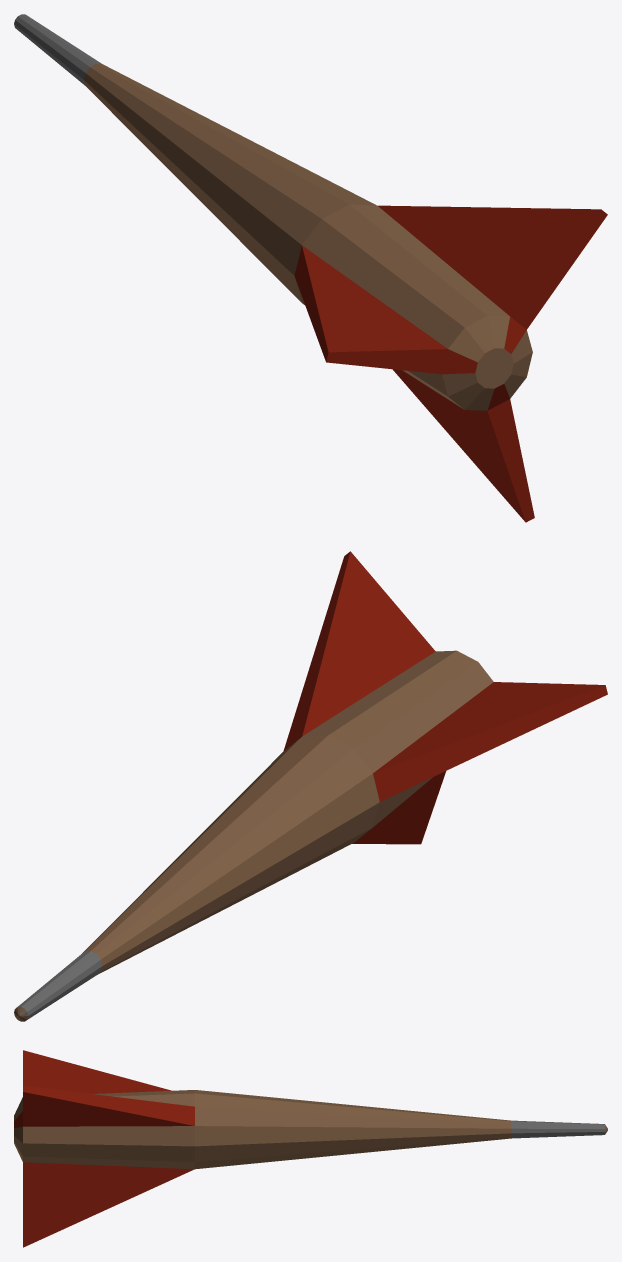
The model's file is dart.glb.
3 renders of one model, top to bottom at view 1: azimuth 30°, elevation 25°; view 2: azimuth 150°, elevation 25°; view 3: azimuth 270°, elevation 25°, orthographic. The views are drawn at different scales.
Parts seen in each view (by area): view 1: Cylinder; view 2: Cylinder; view 3: Cylinder.
Part boxes in pixels (left/top/right/bottom): Cylinder: left=14, top=14, right=607, bottom=522; Cylinder: left=14, top=551, right=607, bottom=1021; Cylinder: left=14, top=1050, right=607, bottom=1247.
Bounding box in the file's own units: 0.2955 × 0.2955 × 0.8632.
1 material, 1 textured.
